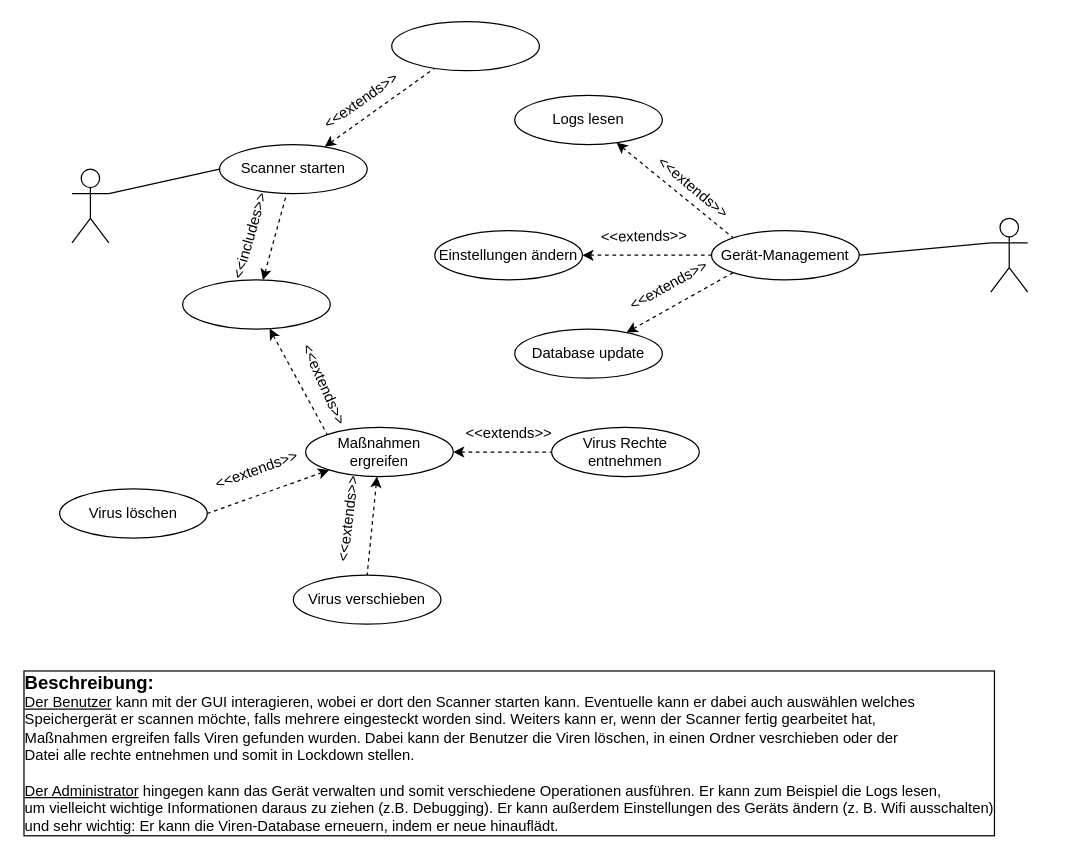
Image size: 1074x866. Some labels were removed from this diagram. The shapes that lost their labels are listed below. From the top down, each one's centre as x and y in pixels, then its label:
At [465,45]: "Speichergerät auswählen".
At [90,205]: "Benutzer".
At [1009,254]: "Administrator".
At [255,304]: "Scanner stoppen".
